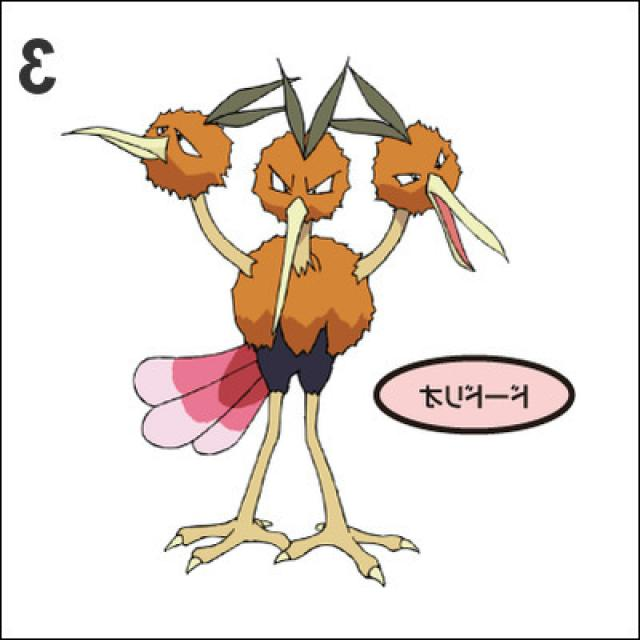Dodrio: (104, 52, 472, 586)
